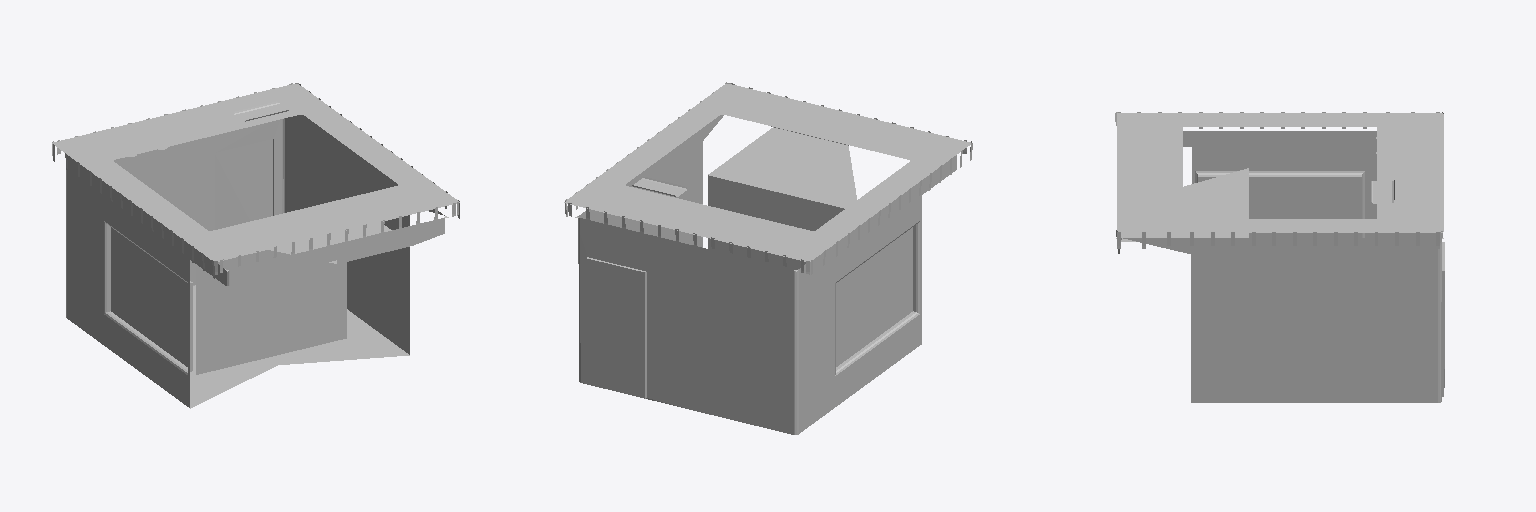
File: belakang2.obj
3 views of the same model, side by side, from view 1: azimuth 30°, elevation 25°; view 2: azimuth 150°, elevation 25°; view 3: azimuth 270°, elevation 25° (orthographic).
Parts seen in each view (by area): view 1: Shop_Low_5; view 2: Shop_Low_5; view 3: Shop_Low_5.
Boxes of the visible parts, box(x1,y1,x2,y2) form: Shop_Low_5: box(52, 83, 459, 408); Shop_Low_5: box(564, 82, 972, 434); Shop_Low_5: box(1115, 112, 1444, 402).
Bounding box in the file's own units: 12.13 × 8.81 × 14.06.